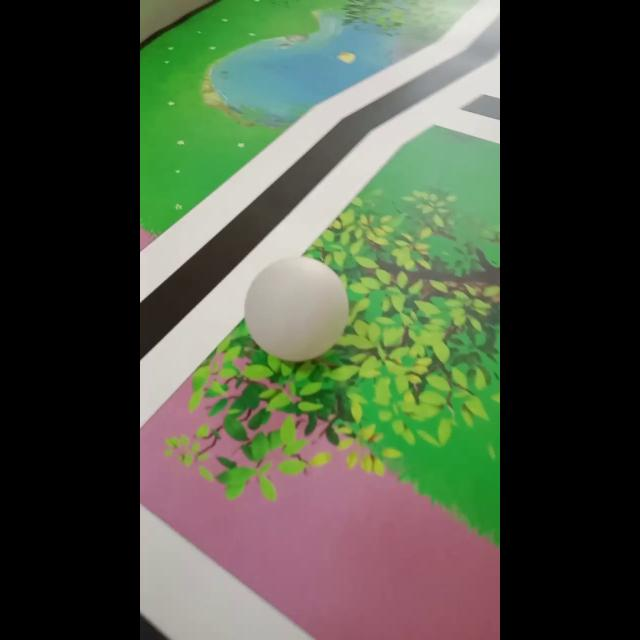white ball: (243, 255, 349, 363)
